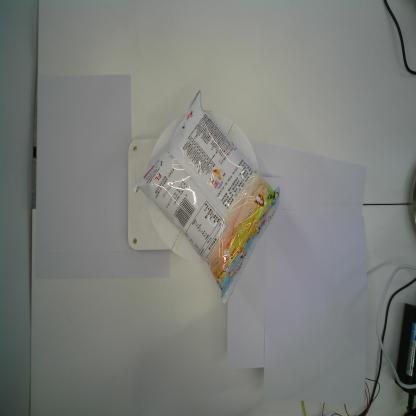Puffed Food: (130, 89, 282, 306)
